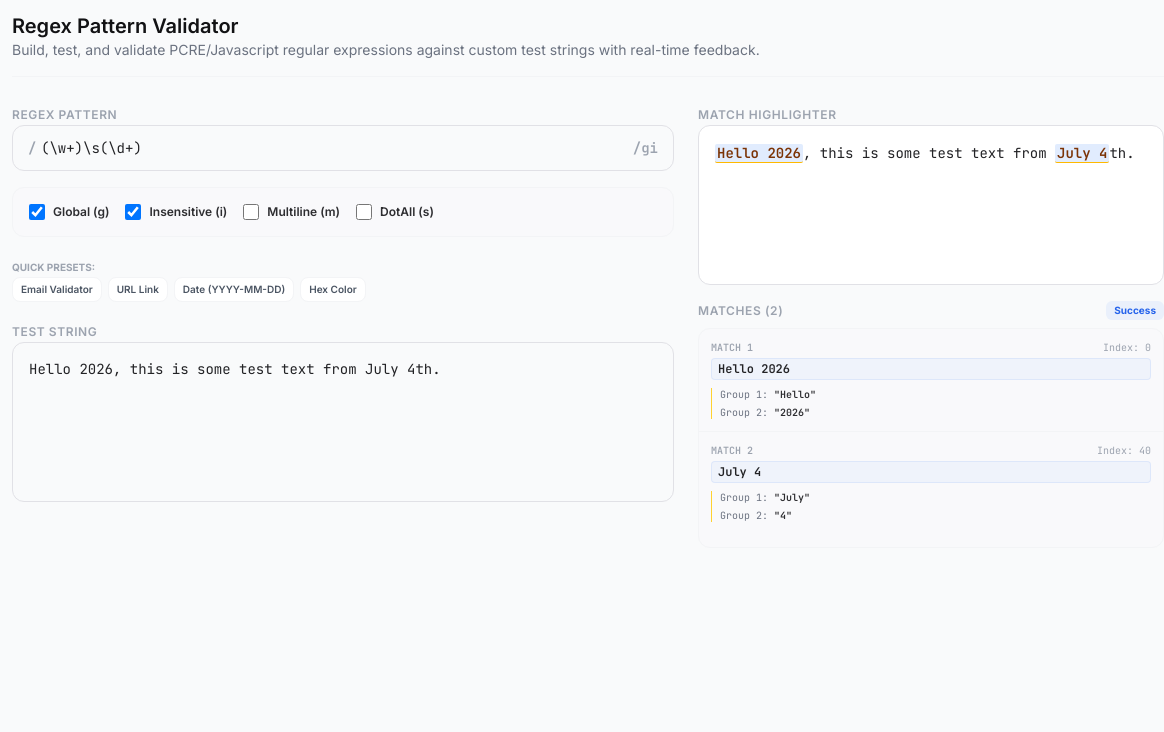
Scenario: RegexTool Component › performs input validation and shows error message for malformed regex patterns
Note: Unclosed parenthesis (malformed regex)
Replace the text in the field with placeholder "Type regex pattern... e.g., ([a-z]+)" with "(\\w+" at (343, 148), box [12,125,674,171]
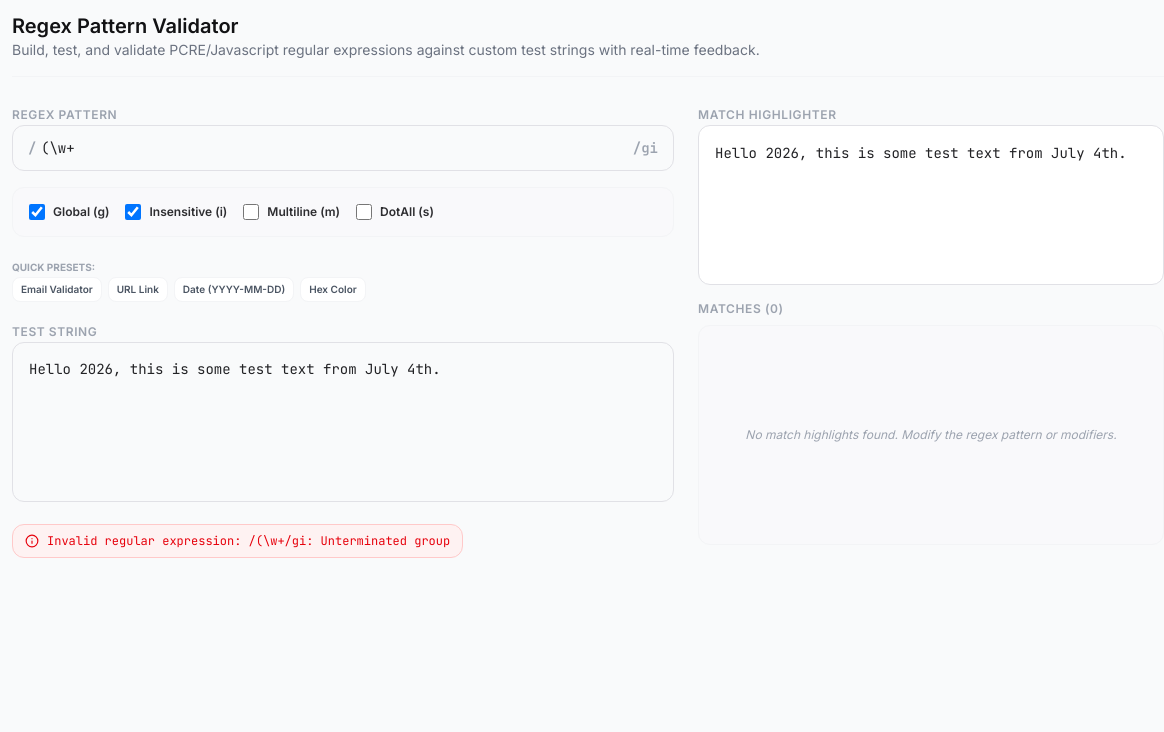
Check: the text "Invalid regular expression: /(\\w+/gi: Unterminated group" is shown, box [47,533,450,549]
